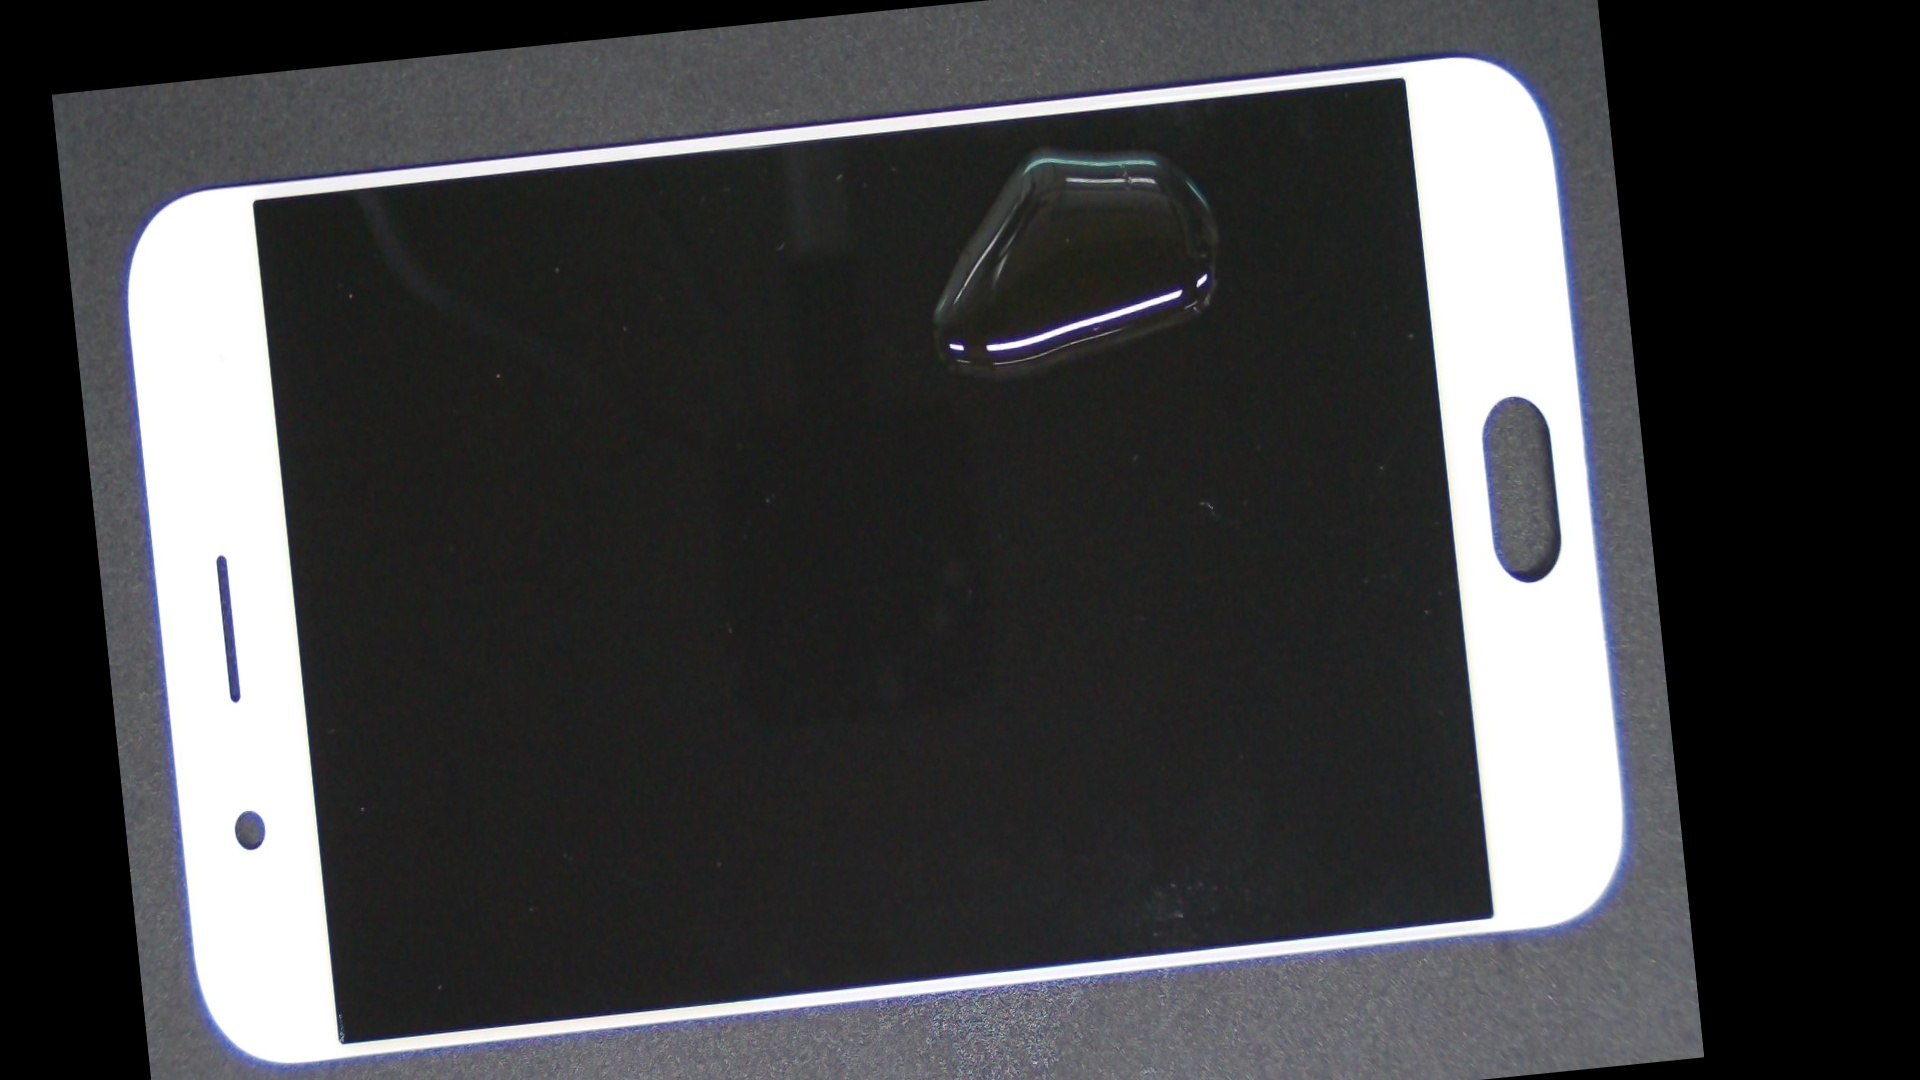oil: (549, 21, 1539, 272)
